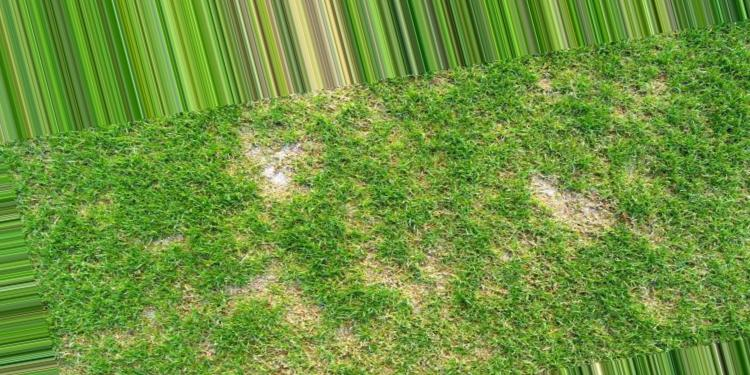patch: (523, 170, 619, 237), (243, 139, 305, 204), (254, 268, 315, 328)
